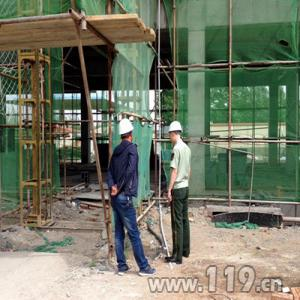white: (119, 119, 134, 143), (169, 120, 183, 145)
